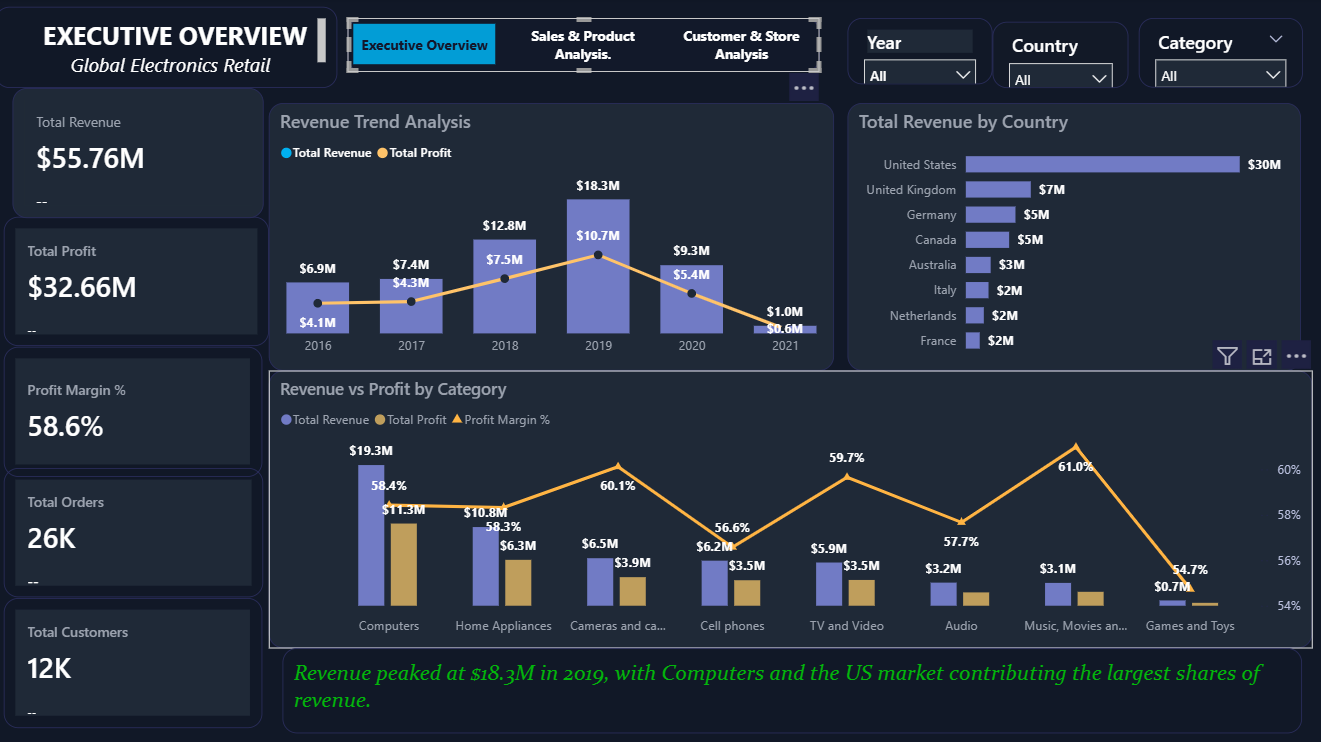

The page's visual inventory and layout, read from the dashboard file:
{"tool":"powerbi","page":{"name":"Executive Overview","canvas":[1280,720],"ordinal":0},"visuals":[{"type":"cardVisual","fields":{"Data":["Sales.Total Profit"]},"box":[8.4,211.1,256,125],"z":0},{"type":"cardVisual","fields":{"Data":["Sales.Profit Margin %"]},"box":[8.4,336.6,249.7,125.5],"z":1000},{"type":"cardVisual","fields":{"Data":["Customers.Total Orders"]},"box":[8.4,453.6,250,125],"z":2000},{"type":"cardVisual","fields":{"Data":["Sales.Total Customers"]},"box":[8.4,579.1,249.7,125.5],"z":3000},{"type":"lineClusteredColumnComboChart","title":"Revenue Trend Analysis","fields":{"Category":["DateTable.Year"],"Y":["Sales.Total Revenue"],"Y2":["Sales.Total Profit"]},"box":[264.2,101.3,545.3,258.2],"z":4000},{"type":"clusteredBarChart","fields":{"Category":["Customers.Country"],"Y":["Sales.Total Revenue"]},"box":[822.8,101.3,437.9,258.2],"z":5000},{"type":"lineClusteredColumnComboChart","title":"Revenue vs Profit by Category","fields":{"Category":["Products.Category"],"Y":["Sales.Total Revenue","Sales.Total Profit"],"Y2":["Sales.Profit Margin %"]},"box":[264.2,359.5,1007.4,267.8],"z":6000},{"type":"slicer","fields":{"Values":["Customers.Country"]},"box":[962.7,22.9,131.5,63.9],"z":7000},{"type":"slicer","fields":{"Values":["Products.Category"]},"box":[1103.9,19.3,158,67.6],"z":8000},{"type":"textbox","box":[0,8.2,330.7,78.2],"z":9000},{"type":"slicer","fields":{"Values":["DateTable.Year"]},"box":[822.8,19.3,139.9,63.9],"z":10000},{"type":"pageNavigator","box":[340.2,19.3,456,51.9],"z":11000},{"type":"textbox","box":[277.2,627.1,983.9,82.3],"z":12000},{"type":"cardVisual","fields":{"Data":["Sales.Total Revenue"]},"box":[16.9,86.9,242.5,125.5],"z":13000}]}

Visuals, with their boxes in screenshot pixels (x1, y1, x2, y2), scaled from the page's 1280x720 canvas onto the 1321x742 screenshot:
cardVisual - Sales.Total Profit: BBox(9, 218, 273, 346)
cardVisual - Sales.Profit Margin %: BBox(9, 347, 266, 476)
cardVisual - Customers.Total Orders: BBox(9, 467, 267, 596)
cardVisual - Sales.Total Customers: BBox(9, 597, 266, 726)
"Revenue Trend Analysis" lineClusteredColumnComboChart: BBox(273, 104, 835, 370)
clusteredBarChart - Customers.Country x Sales.Total Revenue: BBox(849, 104, 1301, 370)
"Revenue vs Profit by Category" lineClusteredColumnComboChart: BBox(273, 370, 1312, 646)
slicer - Customers.Country: BBox(994, 24, 1129, 89)
slicer - Products.Category: BBox(1139, 20, 1302, 90)
textbox: BBox(0, 8, 341, 89)
slicer - DateTable.Year: BBox(849, 20, 994, 86)
pageNavigator: BBox(351, 20, 822, 73)
textbox: BBox(286, 646, 1301, 731)
cardVisual - Sales.Total Revenue: BBox(17, 90, 268, 219)
